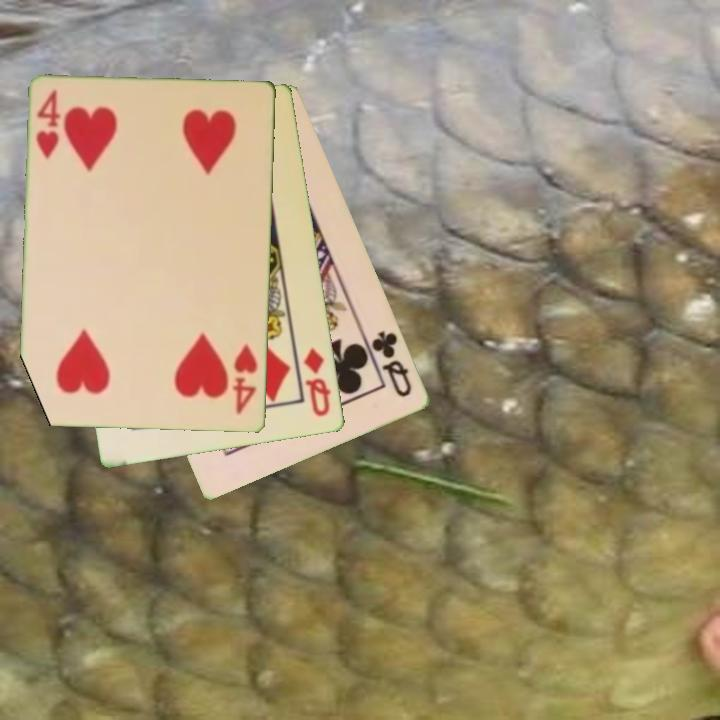4h: (229, 341, 261, 418), (33, 87, 64, 163)
Qc: (362, 327, 415, 401)
Qd: (300, 344, 334, 420)
